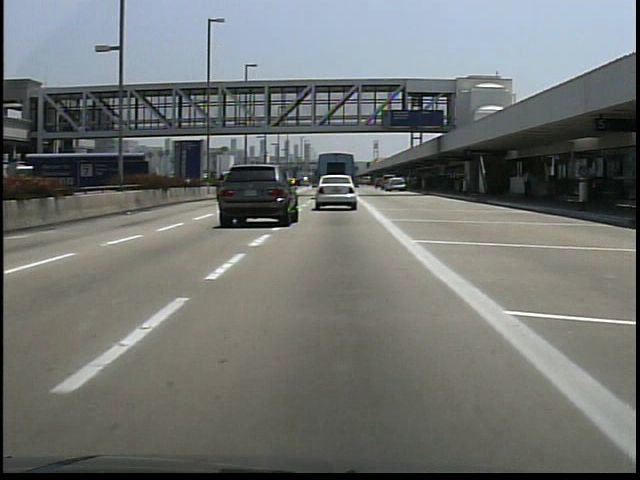person: (517, 168, 538, 205)
